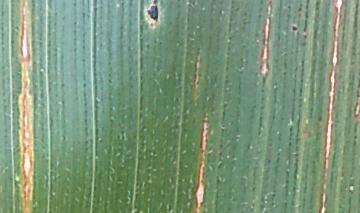tarspot: (143, 4, 164, 23), (289, 22, 301, 36), (151, 1, 159, 5)
